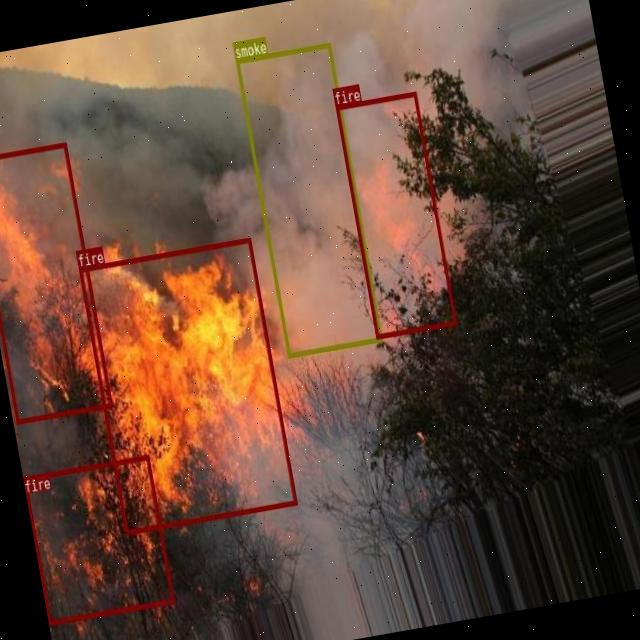fire: (78, 236, 297, 534), (0, 140, 111, 423), (335, 90, 457, 338), (23, 453, 174, 624)
smoke: (235, 42, 382, 356)
